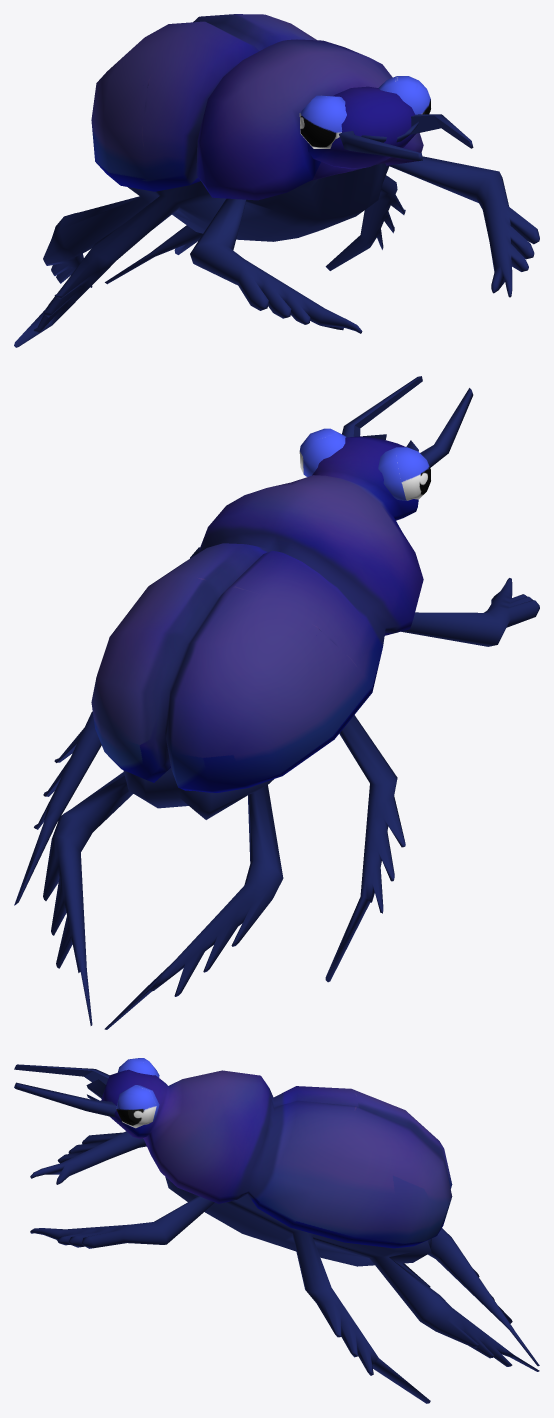
File: beetle_unsubdivided.fbx
3 renders of one model, top to bottom at view 1: azimuth 30°, elevation 25°; view 2: azimuth 150°, elevation 25°; view 3: azimuth 270°, elevation 25°, orthographic. The views are drawn at different scales.
Visible parts, largest first — view 1: Cube, Cube.002, eyeball; view 2: Cube, Cube.002, eyeball; view 3: Cube, Cube.002, eyeball.
Boxes of the visible parts, x1,y1,x2,y2 form: Cube: (91, 14, 423, 200); Cube.002: (14, 114, 539, 347); eyeball: (299, 76, 430, 148); Cube: (91, 436, 423, 792); Cube.002: (14, 376, 539, 1029); eyeball: (299, 428, 430, 500); Cube: (101, 1069, 452, 1248); Cube.002: (14, 1064, 539, 1403); eyeball: (116, 1058, 159, 1128).
Size of the model in its own units: 98.15 by 105 by 169.
